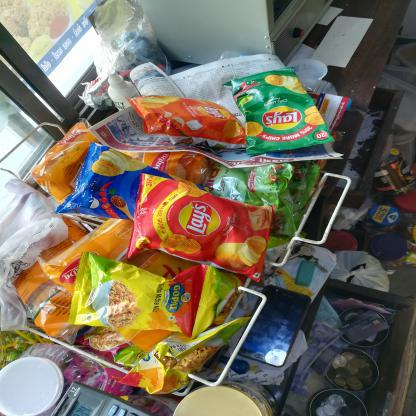chile_limon: (231, 73, 337, 144)
hot_and_sweet: (126, 90, 243, 150)
indian_magic_masala: (76, 141, 139, 214)
tangy_tomato: (135, 175, 267, 268), (133, 141, 214, 184)
